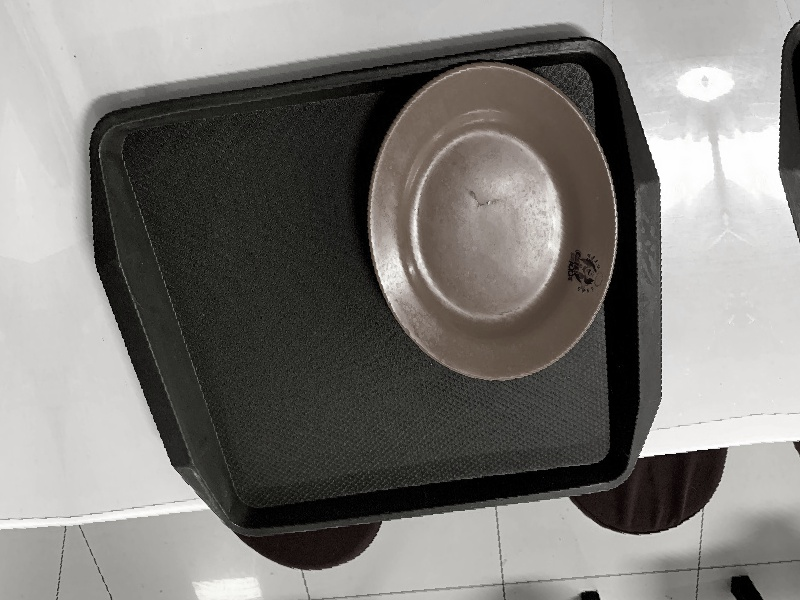dish10: (338, 49, 643, 395)
